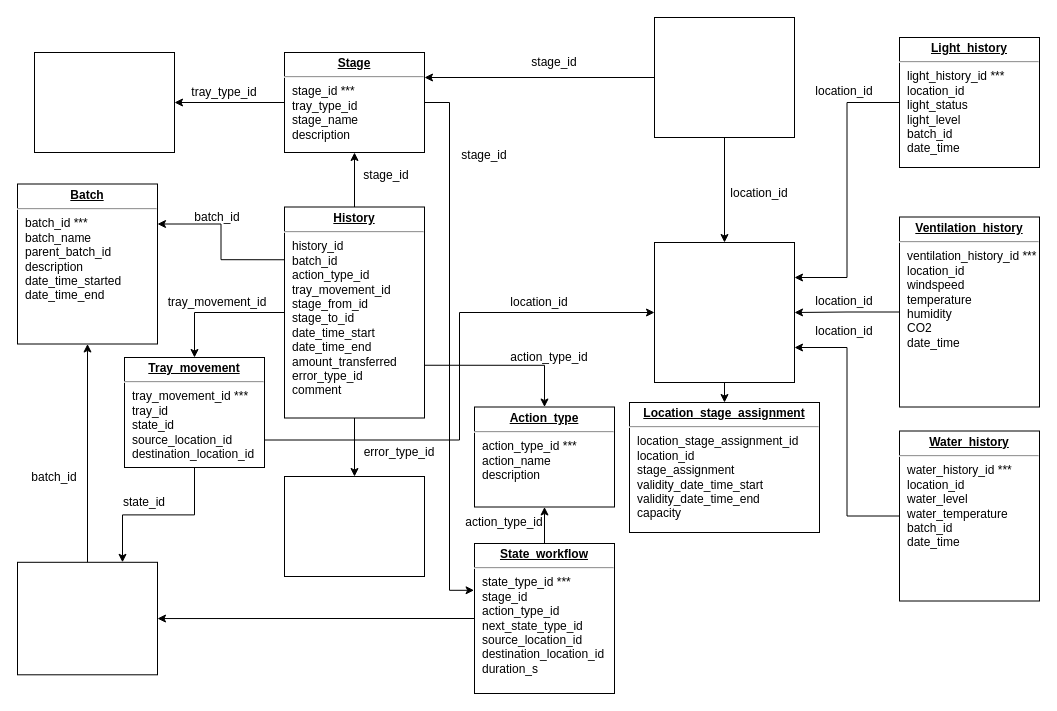
Some shapes in this 1057 by 711 pixel diagram are drawn without their labels. The shapes that lost their labels are listed below. From the top down, each one's box as (x1, y1, x2, y2) in pixels, then its label:
(654, 16, 794, 138): Tray tray_id *** location_id stage_id date_time_start date_time_end
(34, 52, 174, 152): Tray_type tray_type_id *** size capacity description
(654, 242, 794, 382): Location location_id *** bay_id container_id shelf_id num_slot comment
(284, 476, 424, 576): Error_type error_type_id *** status_name/error description
(16, 561, 158, 675): State state_id *** state_type_id batch_id
